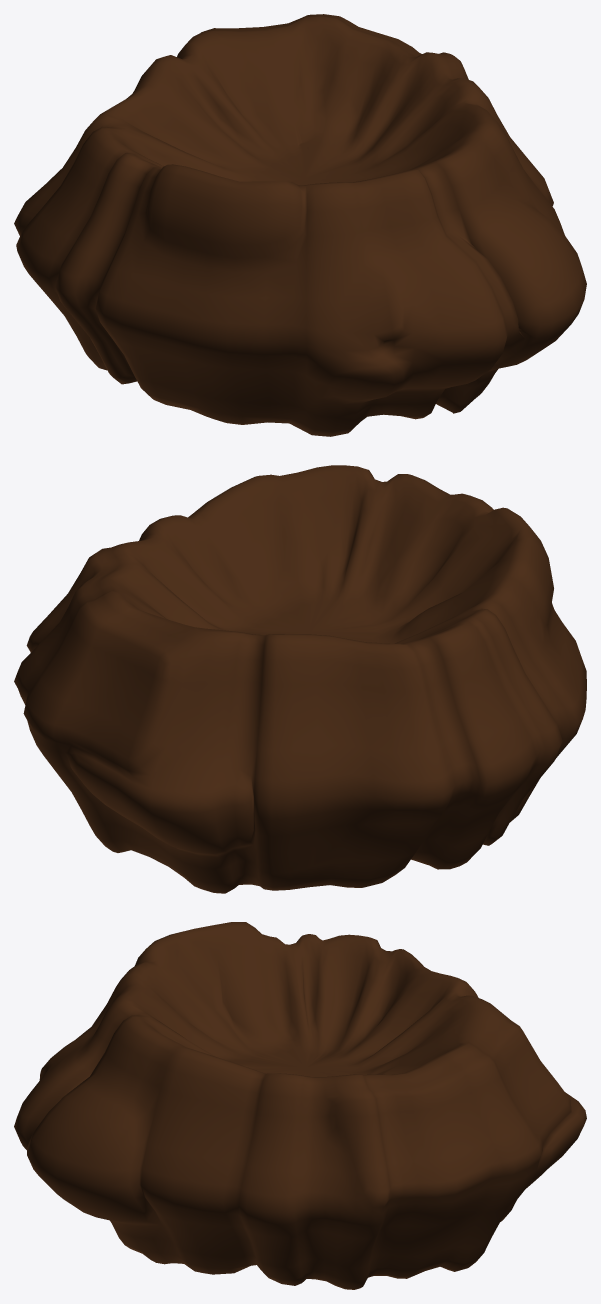
The model's file is crate.fbx.
The picture shows the model from 3 angles, top to bottom: view 1: azimuth 30°, elevation 25°; view 2: azimuth 150°, elevation 25°; view 3: azimuth 270°, elevation 25°; orthographic projection. The views are drawn at different scales.
Parts seen in each view (by area): view 1: Torus; view 2: Torus; view 3: Torus.
Boxes of the visible parts, box(x1,y1,x2,y2) form: Torus: box(14, 14, 586, 436); Torus: box(14, 465, 586, 893); Torus: box(14, 922, 586, 1289).
Bounding box in the file's own units: 91.97 × 48.16 × 106.
